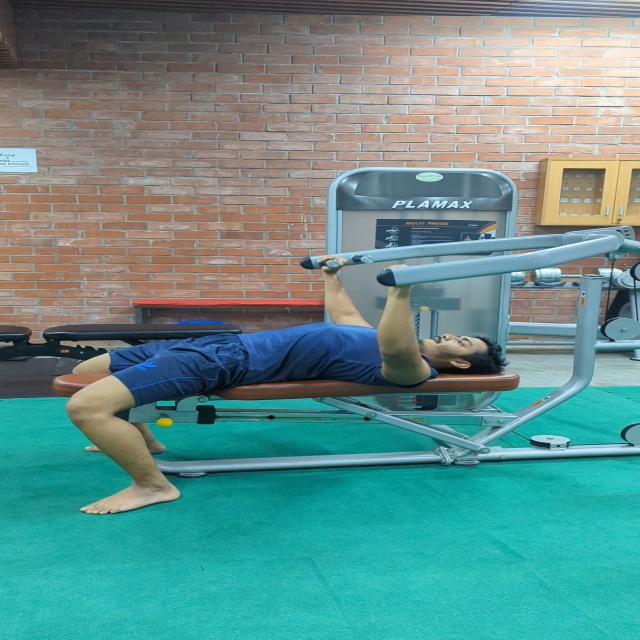Normal_BrenchPress: (46, 253, 616, 524)
